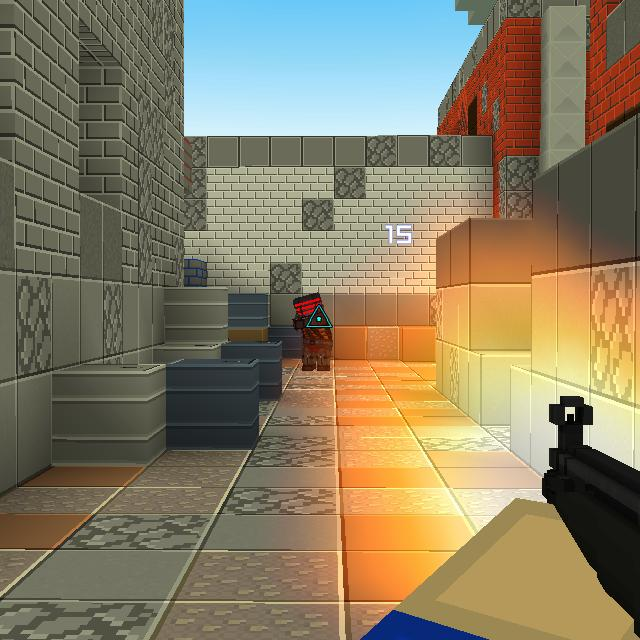enemy: (291, 292, 334, 373)
